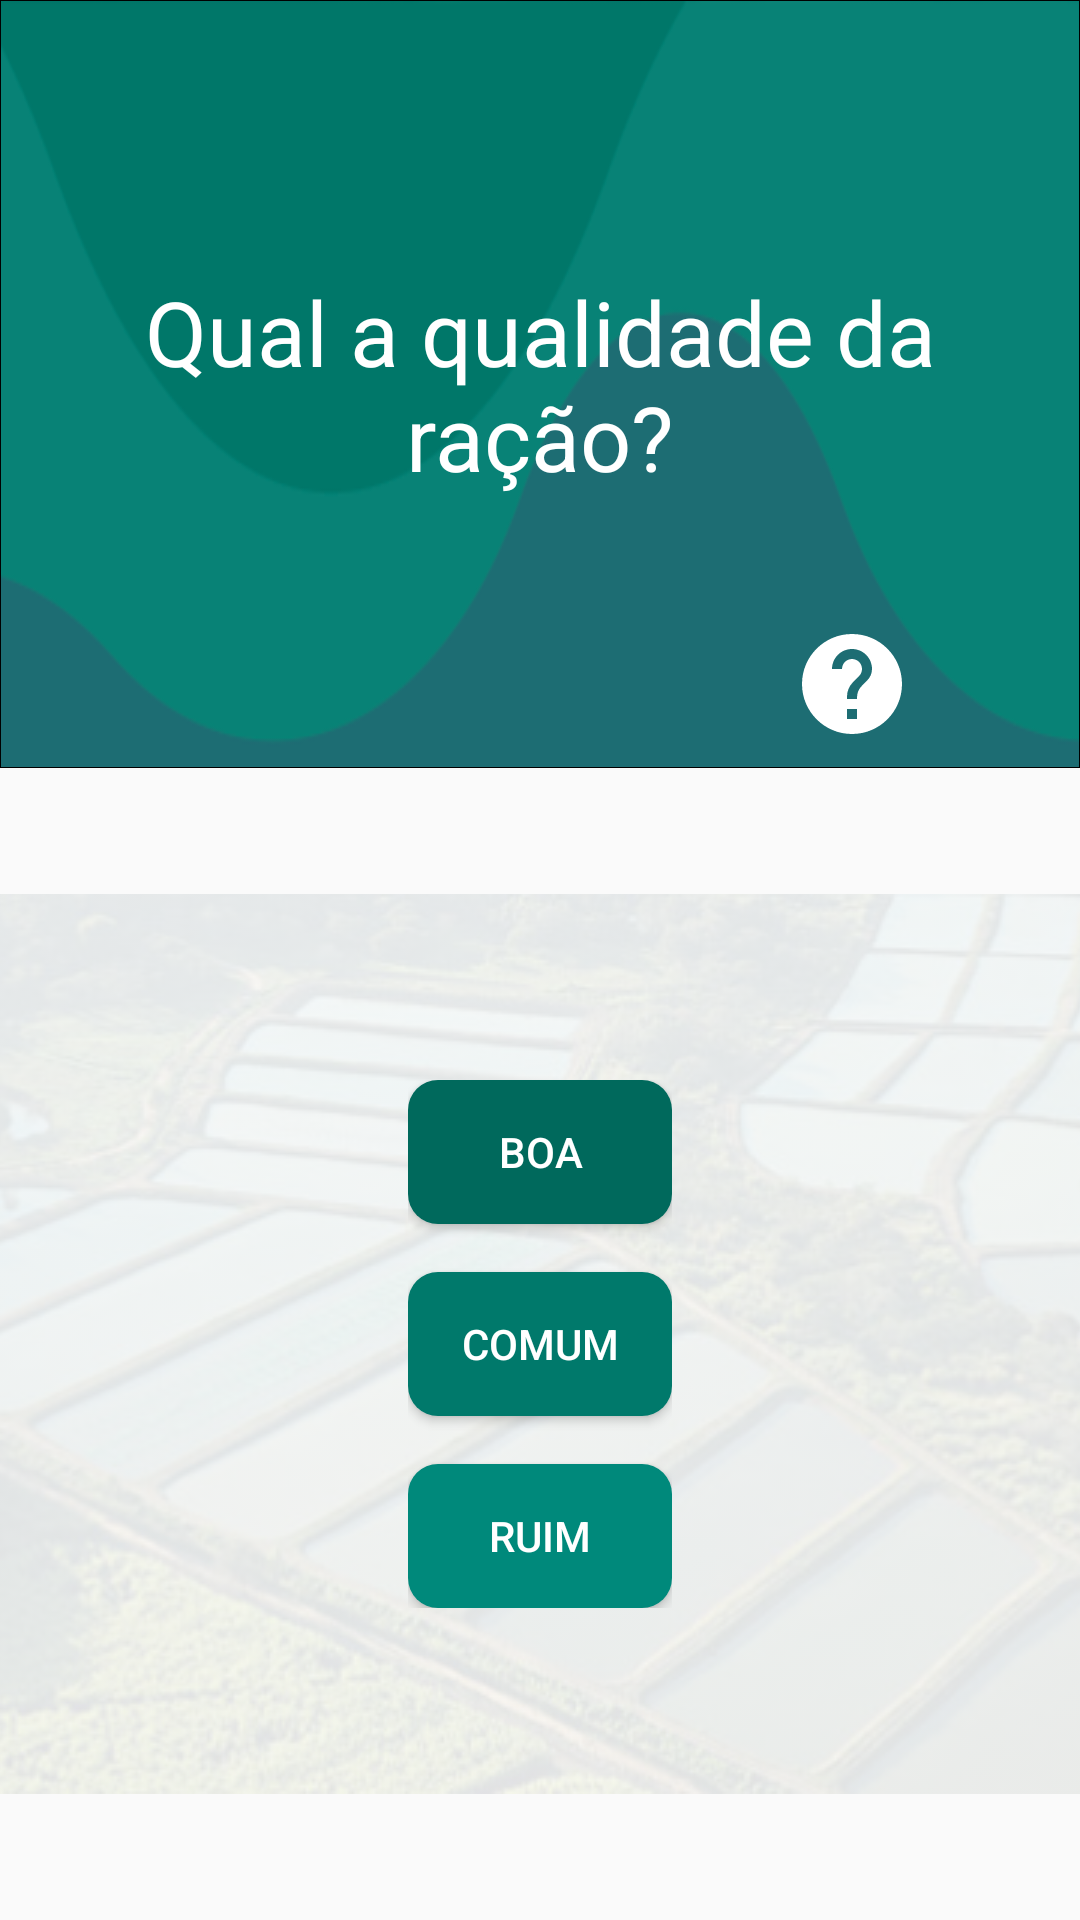

Named icons in this screenshot (1080×1920) and their bounding boxes, (x1, y1, x2, y2):
help: (802, 634, 902, 734)
